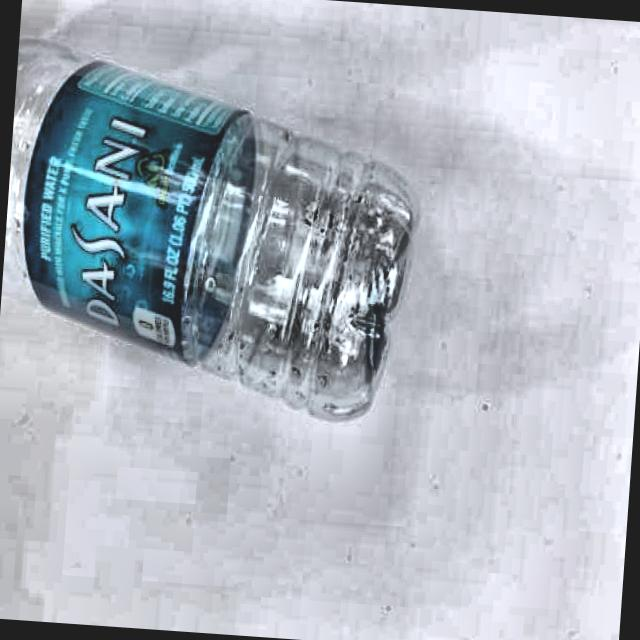plastic bottle: (6, 45, 415, 419)
